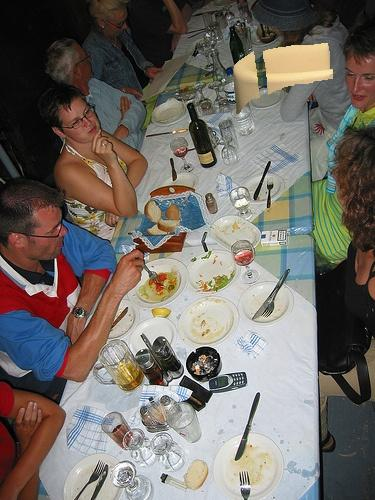tampered: (234, 44, 333, 114)
